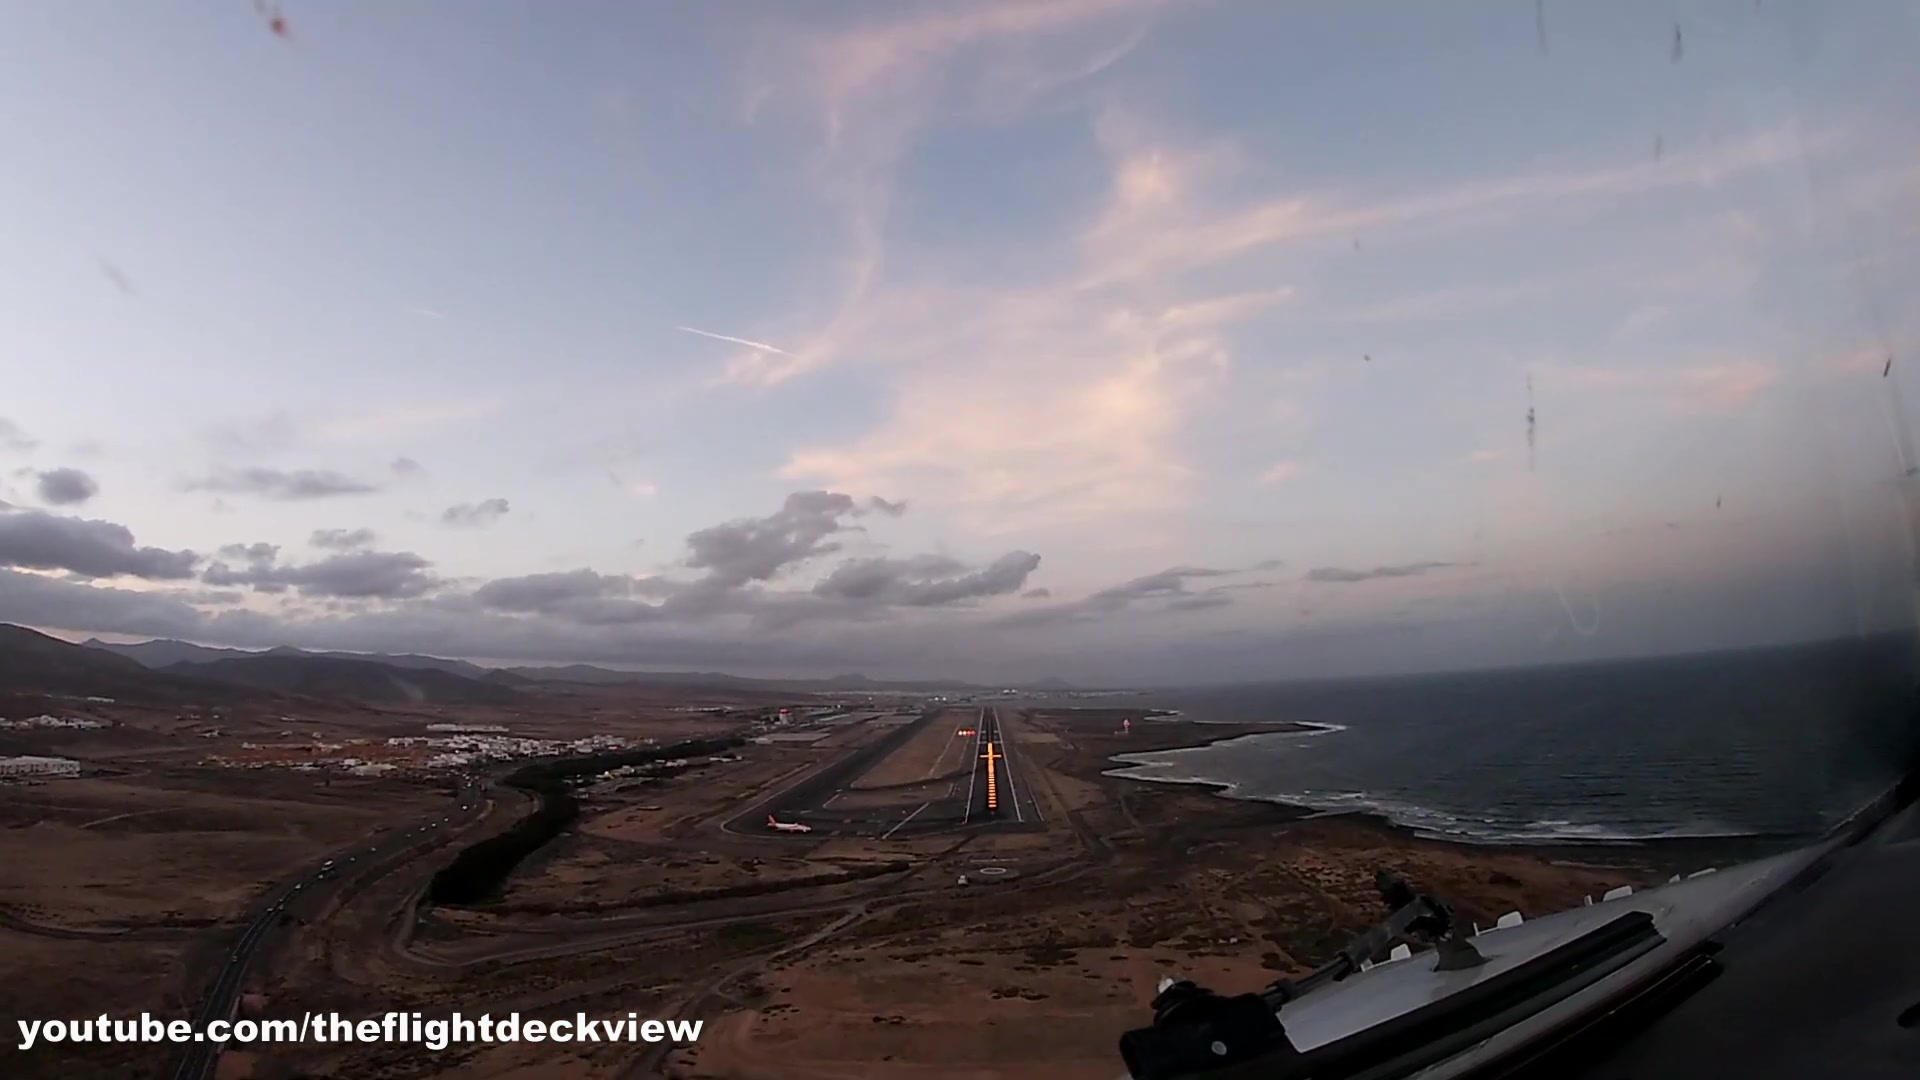runway: (976, 708, 1007, 750)
